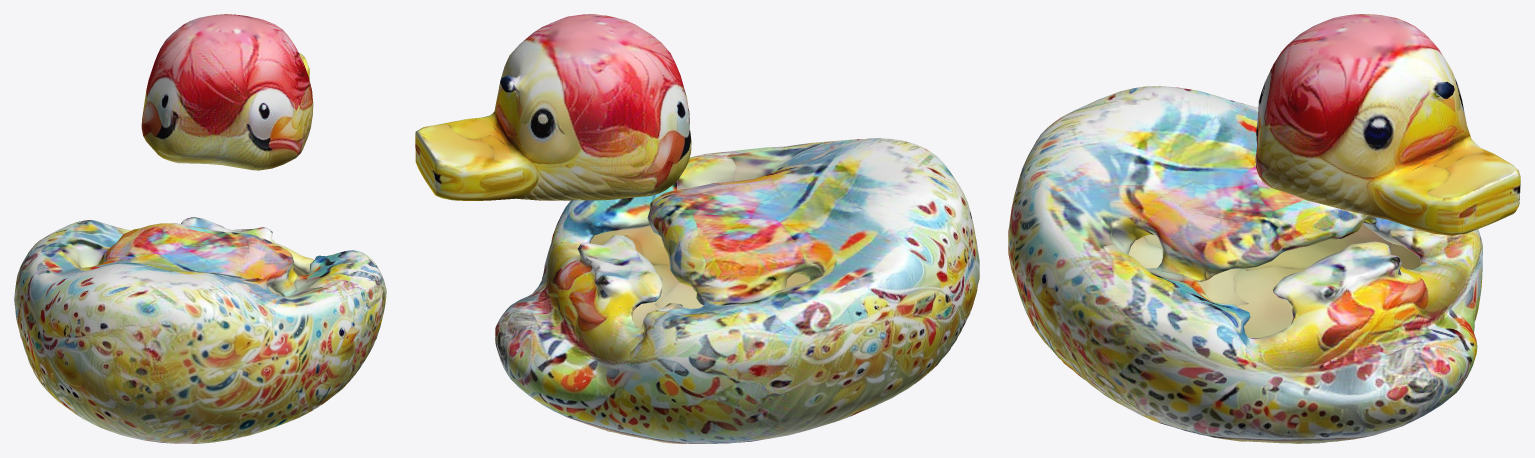
File: rubber_ducky_3.glb
3 views of the same model, side by side, from view 1: azimuth 30°, elevation 25°; view 2: azimuth 150°, elevation 25°; view 3: azimuth 270°, elevation 25° (orthographic). The views are drawn at different scales.
Bounding box in the file's own units: 1 × 0.8746 × 0.9981.
Materials: 1 (1 with a texture image).
